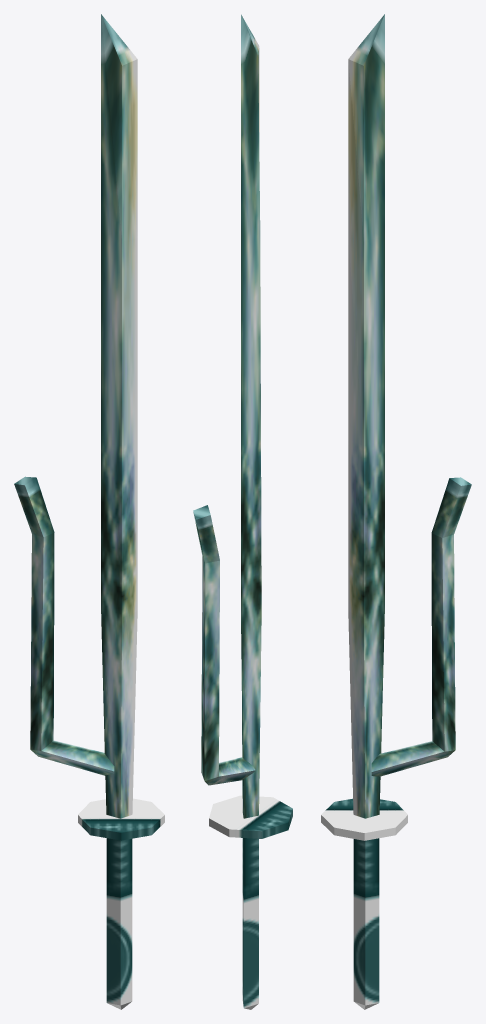
The model's file is heavybladev03_4.obj.
3 renders of one model, left to right at view 1: azimuth 90°, elevation 25°; view 2: azimuth 150°, elevation 25°; view 3: azimuth 270°, elevation 25°, orthographic.
Parts seen in each view (by area): view 1: MDL_cw2hkt03_4; view 2: MDL_cw2hkt03_4; view 3: MDL_cw2hkt03_4.
Part boxes in pixels (x1,y1,x2,y2): MDL_cw2hkt03_4: (14,14,164,1009); MDL_cw2hkt03_4: (193,14,292,1009); MDL_cw2hkt03_4: (321,14,471,1009).
Size of the model in its own units: 0.1388 by 1.77 by 0.2425.
